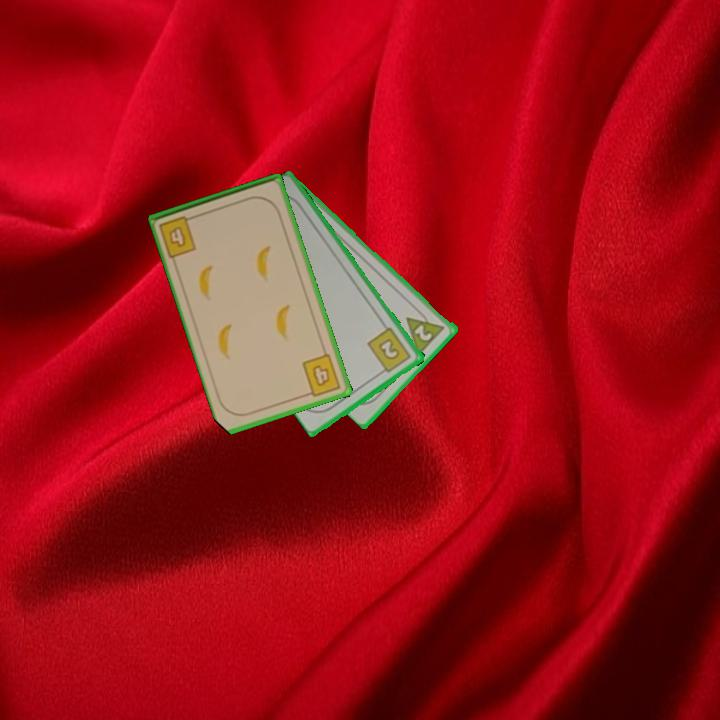2b: (364, 324, 414, 377)
2p: (403, 304, 448, 357)
4b: (299, 350, 344, 400), (155, 212, 200, 260)
